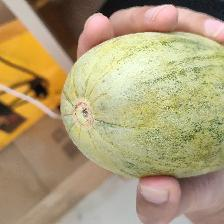gua: (71, 46, 220, 167)
